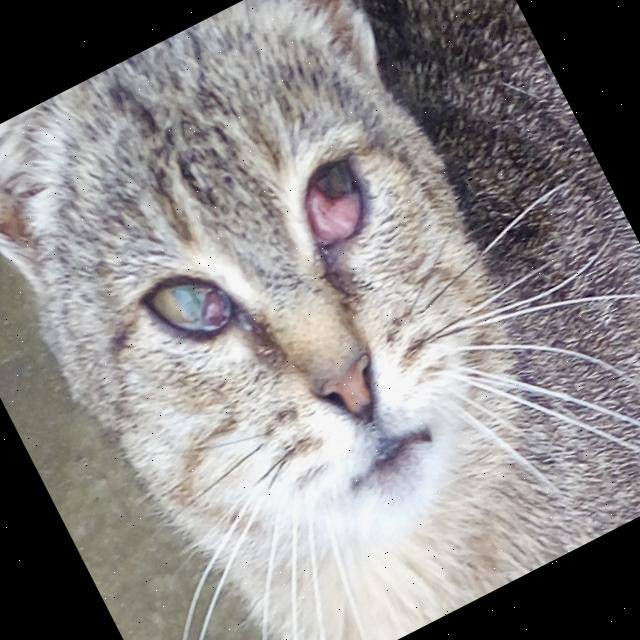cat-eye: (242, 105, 420, 313), (106, 235, 284, 420)
